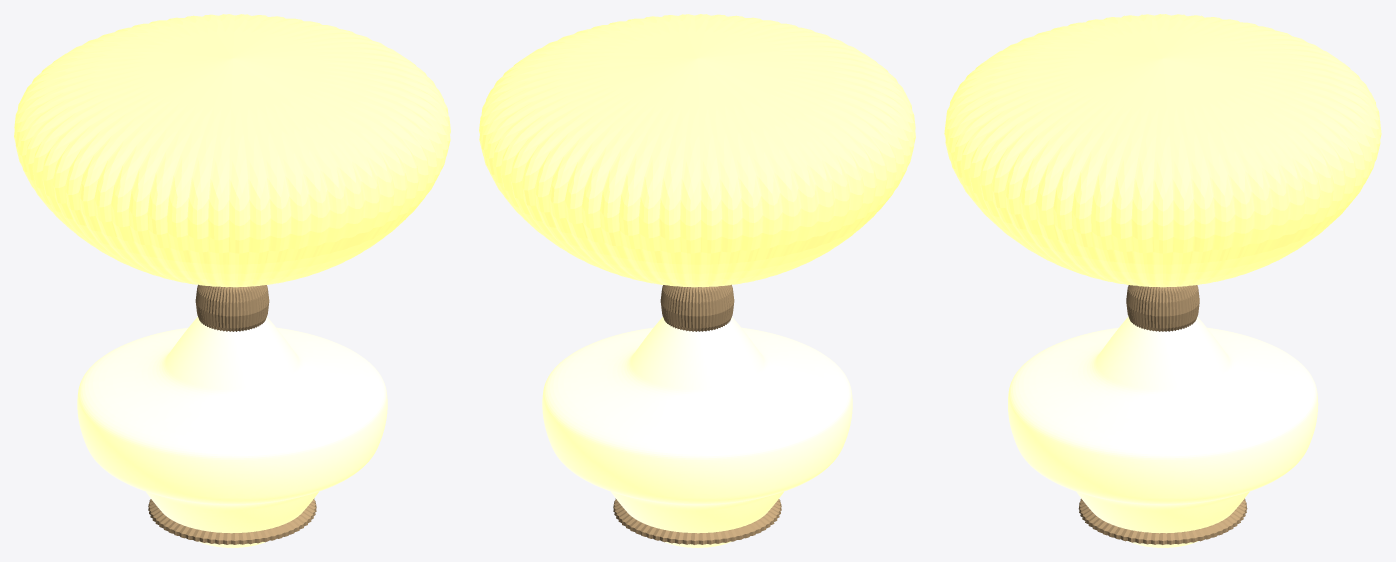
3 views of the same model, side by side, from view 1: azimuth 30°, elevation 25°; view 2: azimuth 150°, elevation 25°; view 3: azimuth 270°, elevation 25° (orthographic).
Bounding box in the file's own units: 2.47 × 2.94 × 2.47.
